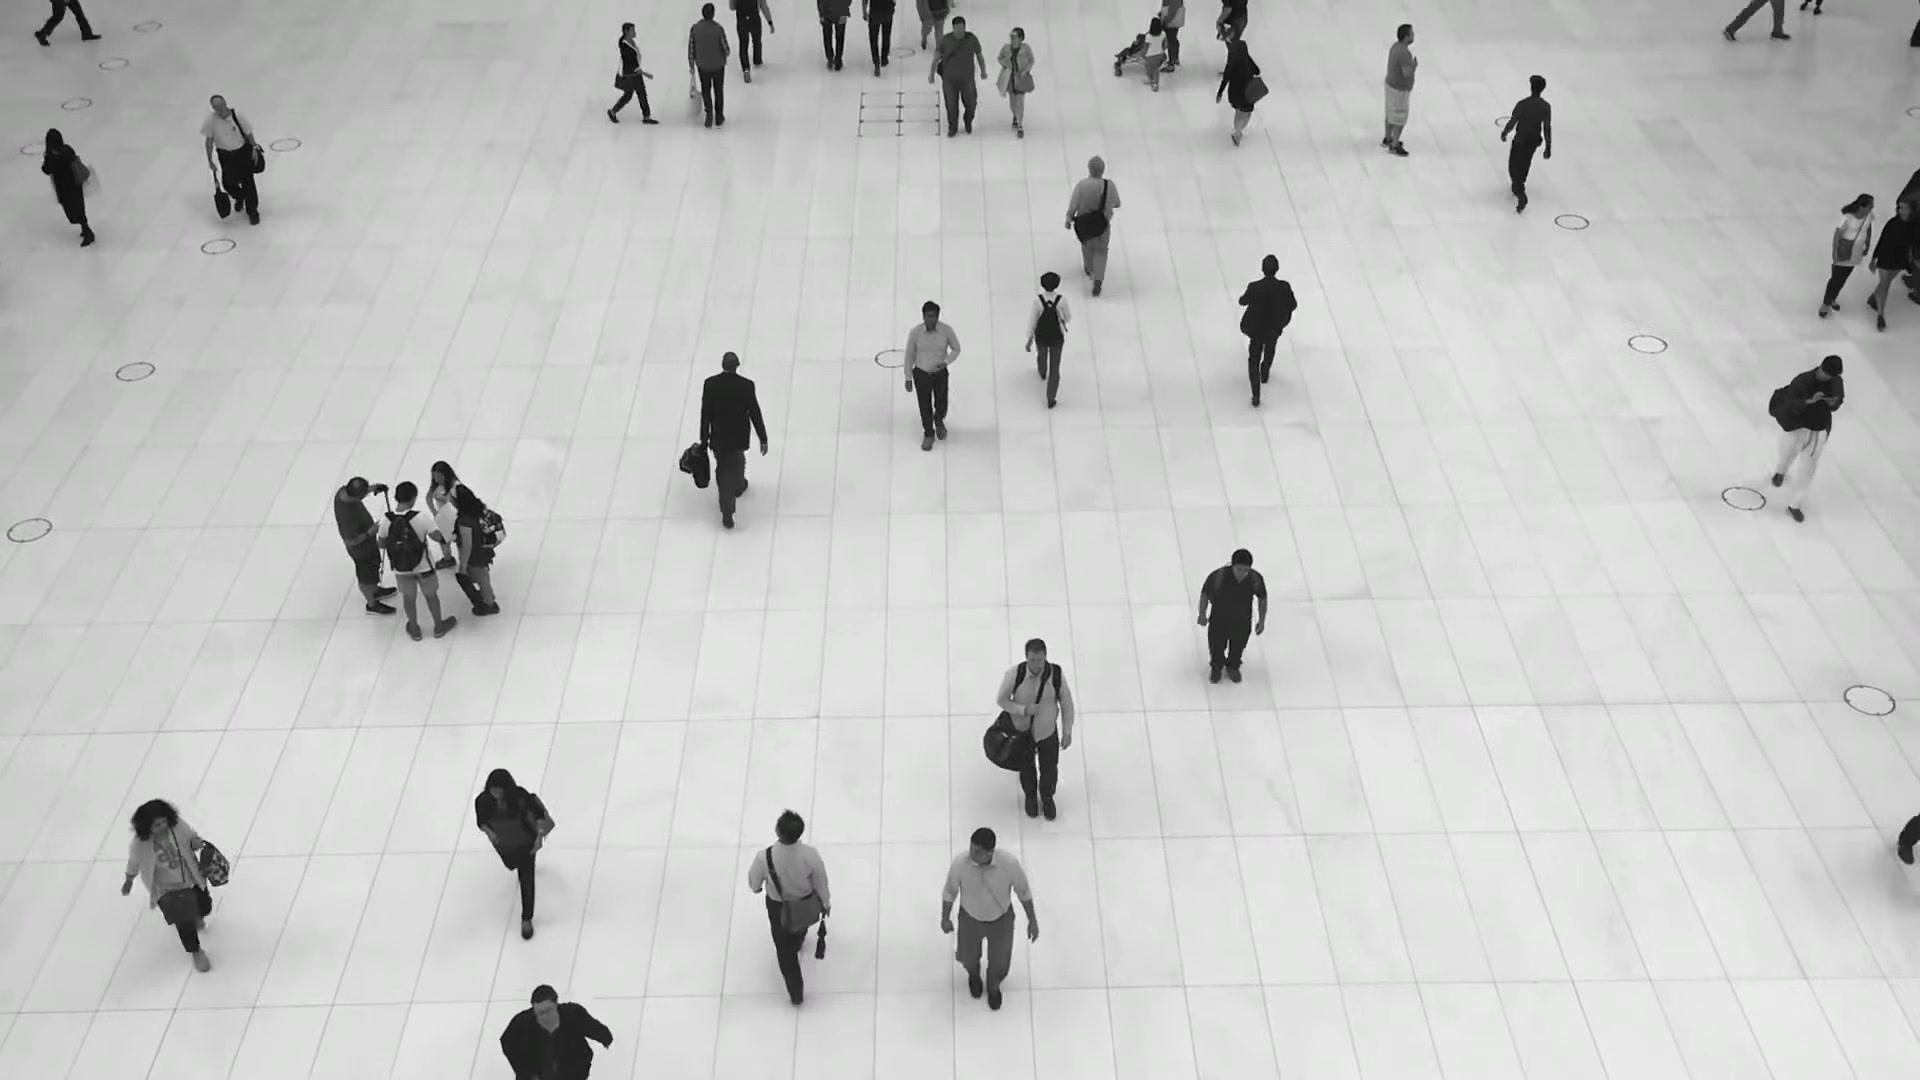person: (937, 825, 1035, 1027), (122, 797, 222, 972), (996, 639, 1076, 841), (748, 809, 831, 990), (377, 479, 459, 639), (1769, 351, 1846, 513), (474, 763, 548, 924), (696, 351, 768, 518), (1191, 548, 1268, 700), (501, 979, 612, 1079), (901, 299, 962, 459), (334, 470, 400, 614), (1235, 252, 1299, 398), (1064, 153, 1123, 289), (199, 93, 260, 224), (1865, 194, 1919, 328), (1819, 193, 1874, 321), (932, 16, 988, 143), (449, 483, 501, 615), (40, 127, 96, 248), (1025, 271, 1074, 410), (1503, 73, 1553, 206), (686, 4, 731, 132), (1380, 23, 1419, 157), (996, 27, 1036, 139), (425, 460, 461, 580), (1218, 41, 1259, 147), (611, 20, 652, 125), (1143, 15, 1166, 90)
